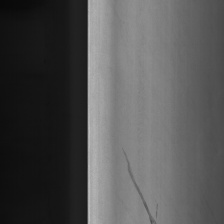water_spot: (119, 139, 166, 224)
